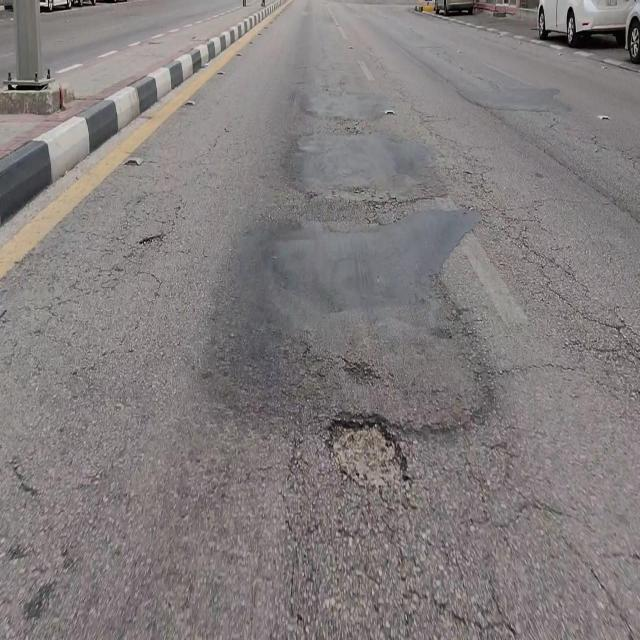Potholes: (326, 415, 408, 487)
